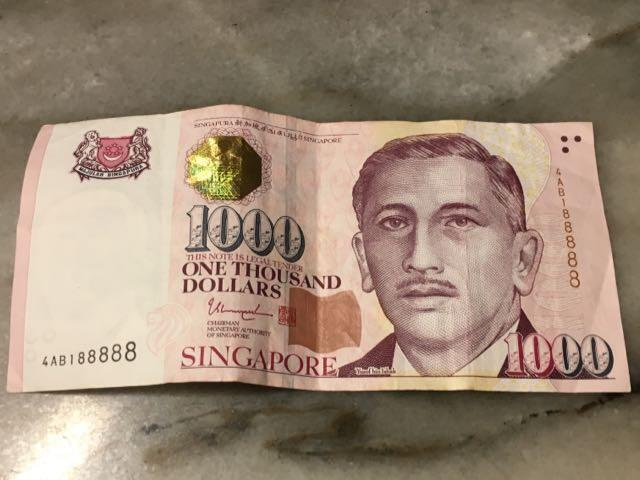1000SingaporeDollar: (34, 127, 615, 380)
